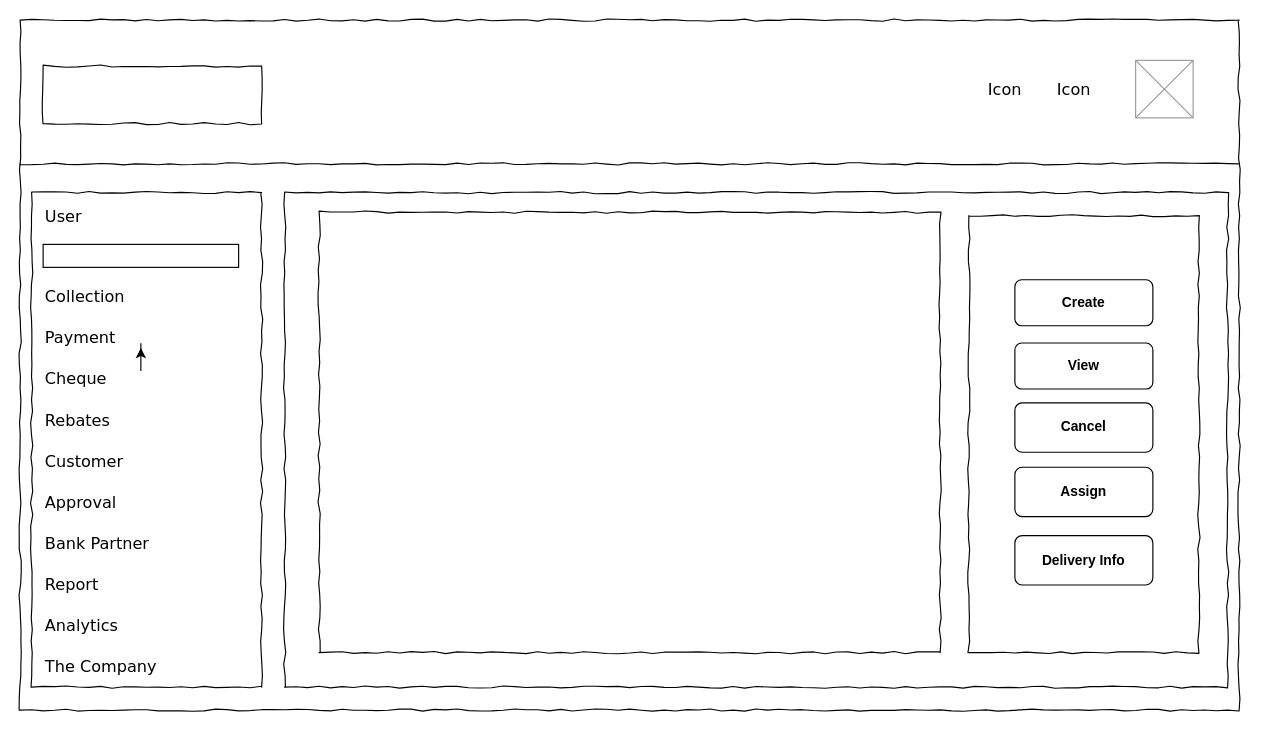
Image size: 1271x730. Some labels were removed from this diagram. Each missing label, with the box of its shape:
Invoice: (42, 243, 239, 267)
JARC: (42, 65, 262, 124)
